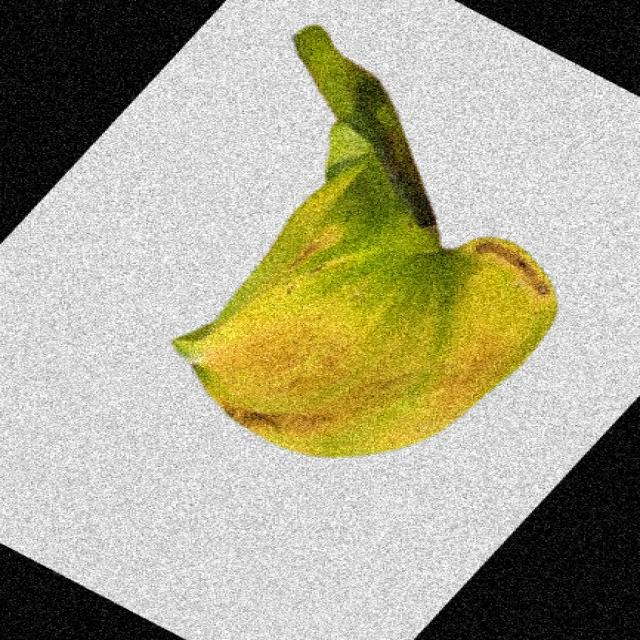daun berpenyakit kuning: (173, 26, 556, 456)
